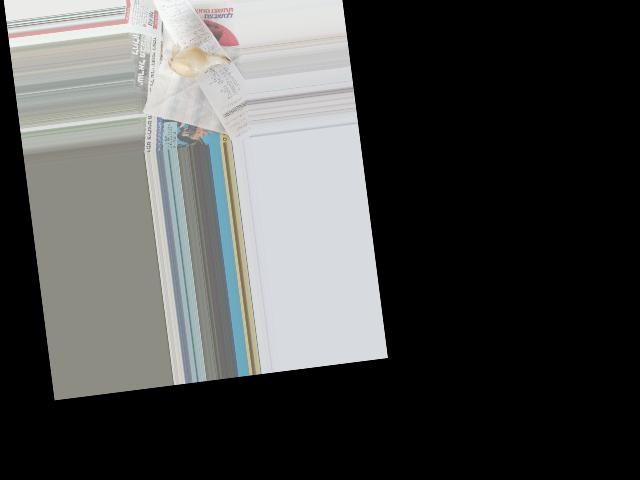onion: (172, 46, 216, 79)
